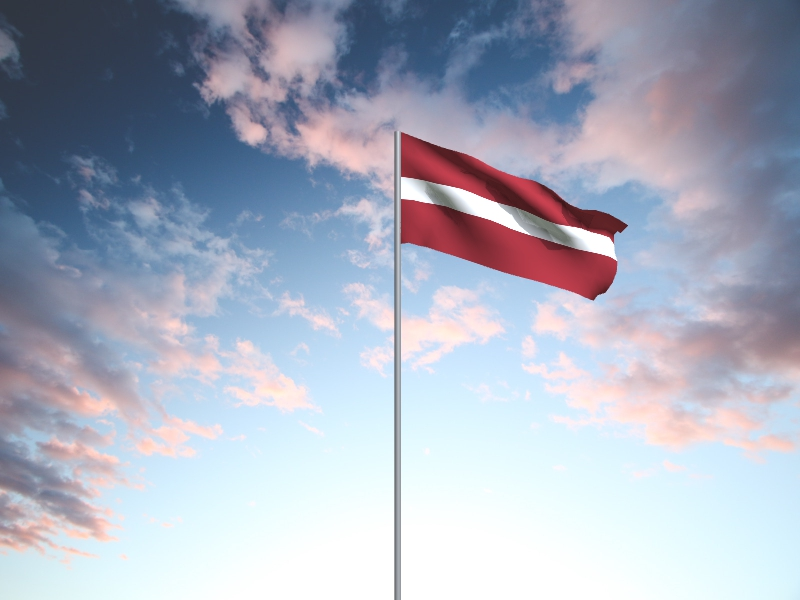lv: (401, 133, 630, 302)
